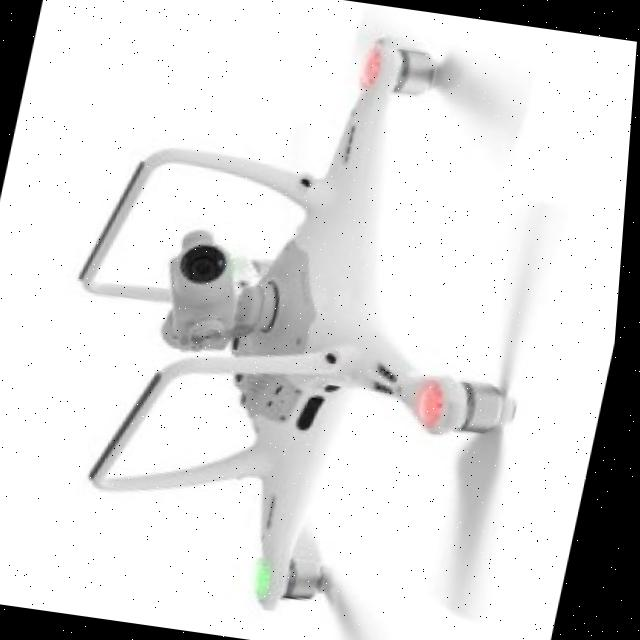drones: (5, 0, 640, 640)
